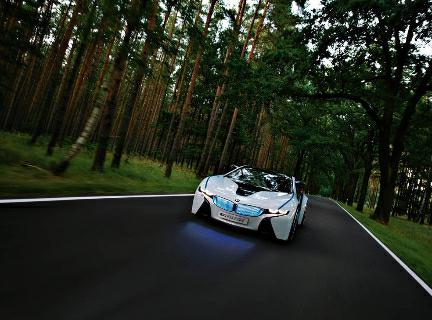宝马-EfficientDynamics: (184, 156, 317, 252)
